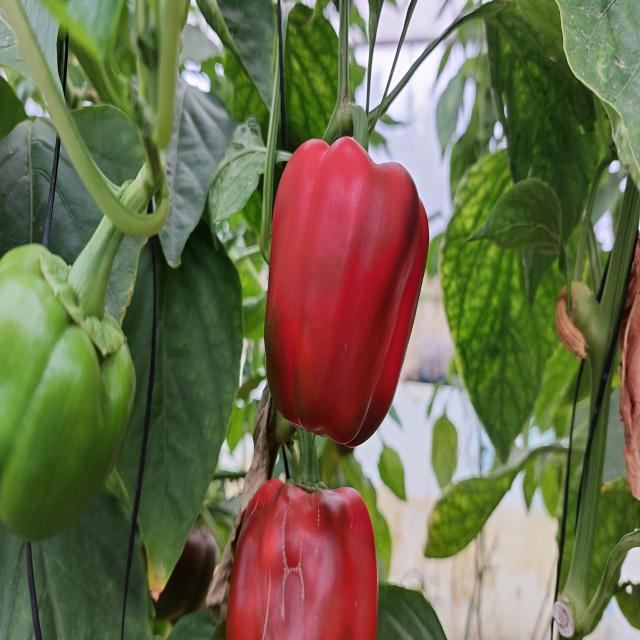Green--Not-ready-to-harvest: (0, 224, 148, 553)
Red-Ready-to-Harvest: (263, 145, 426, 442), (240, 486, 375, 640)
